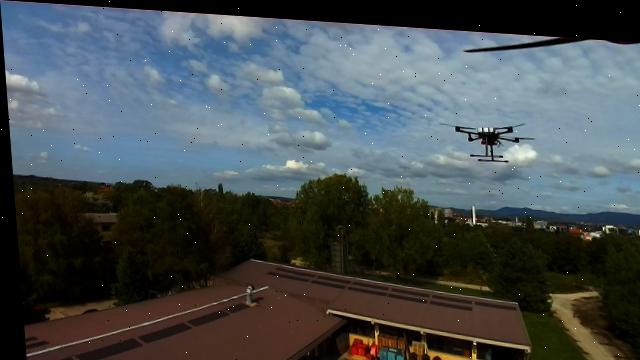drone: (433, 85, 542, 177)
